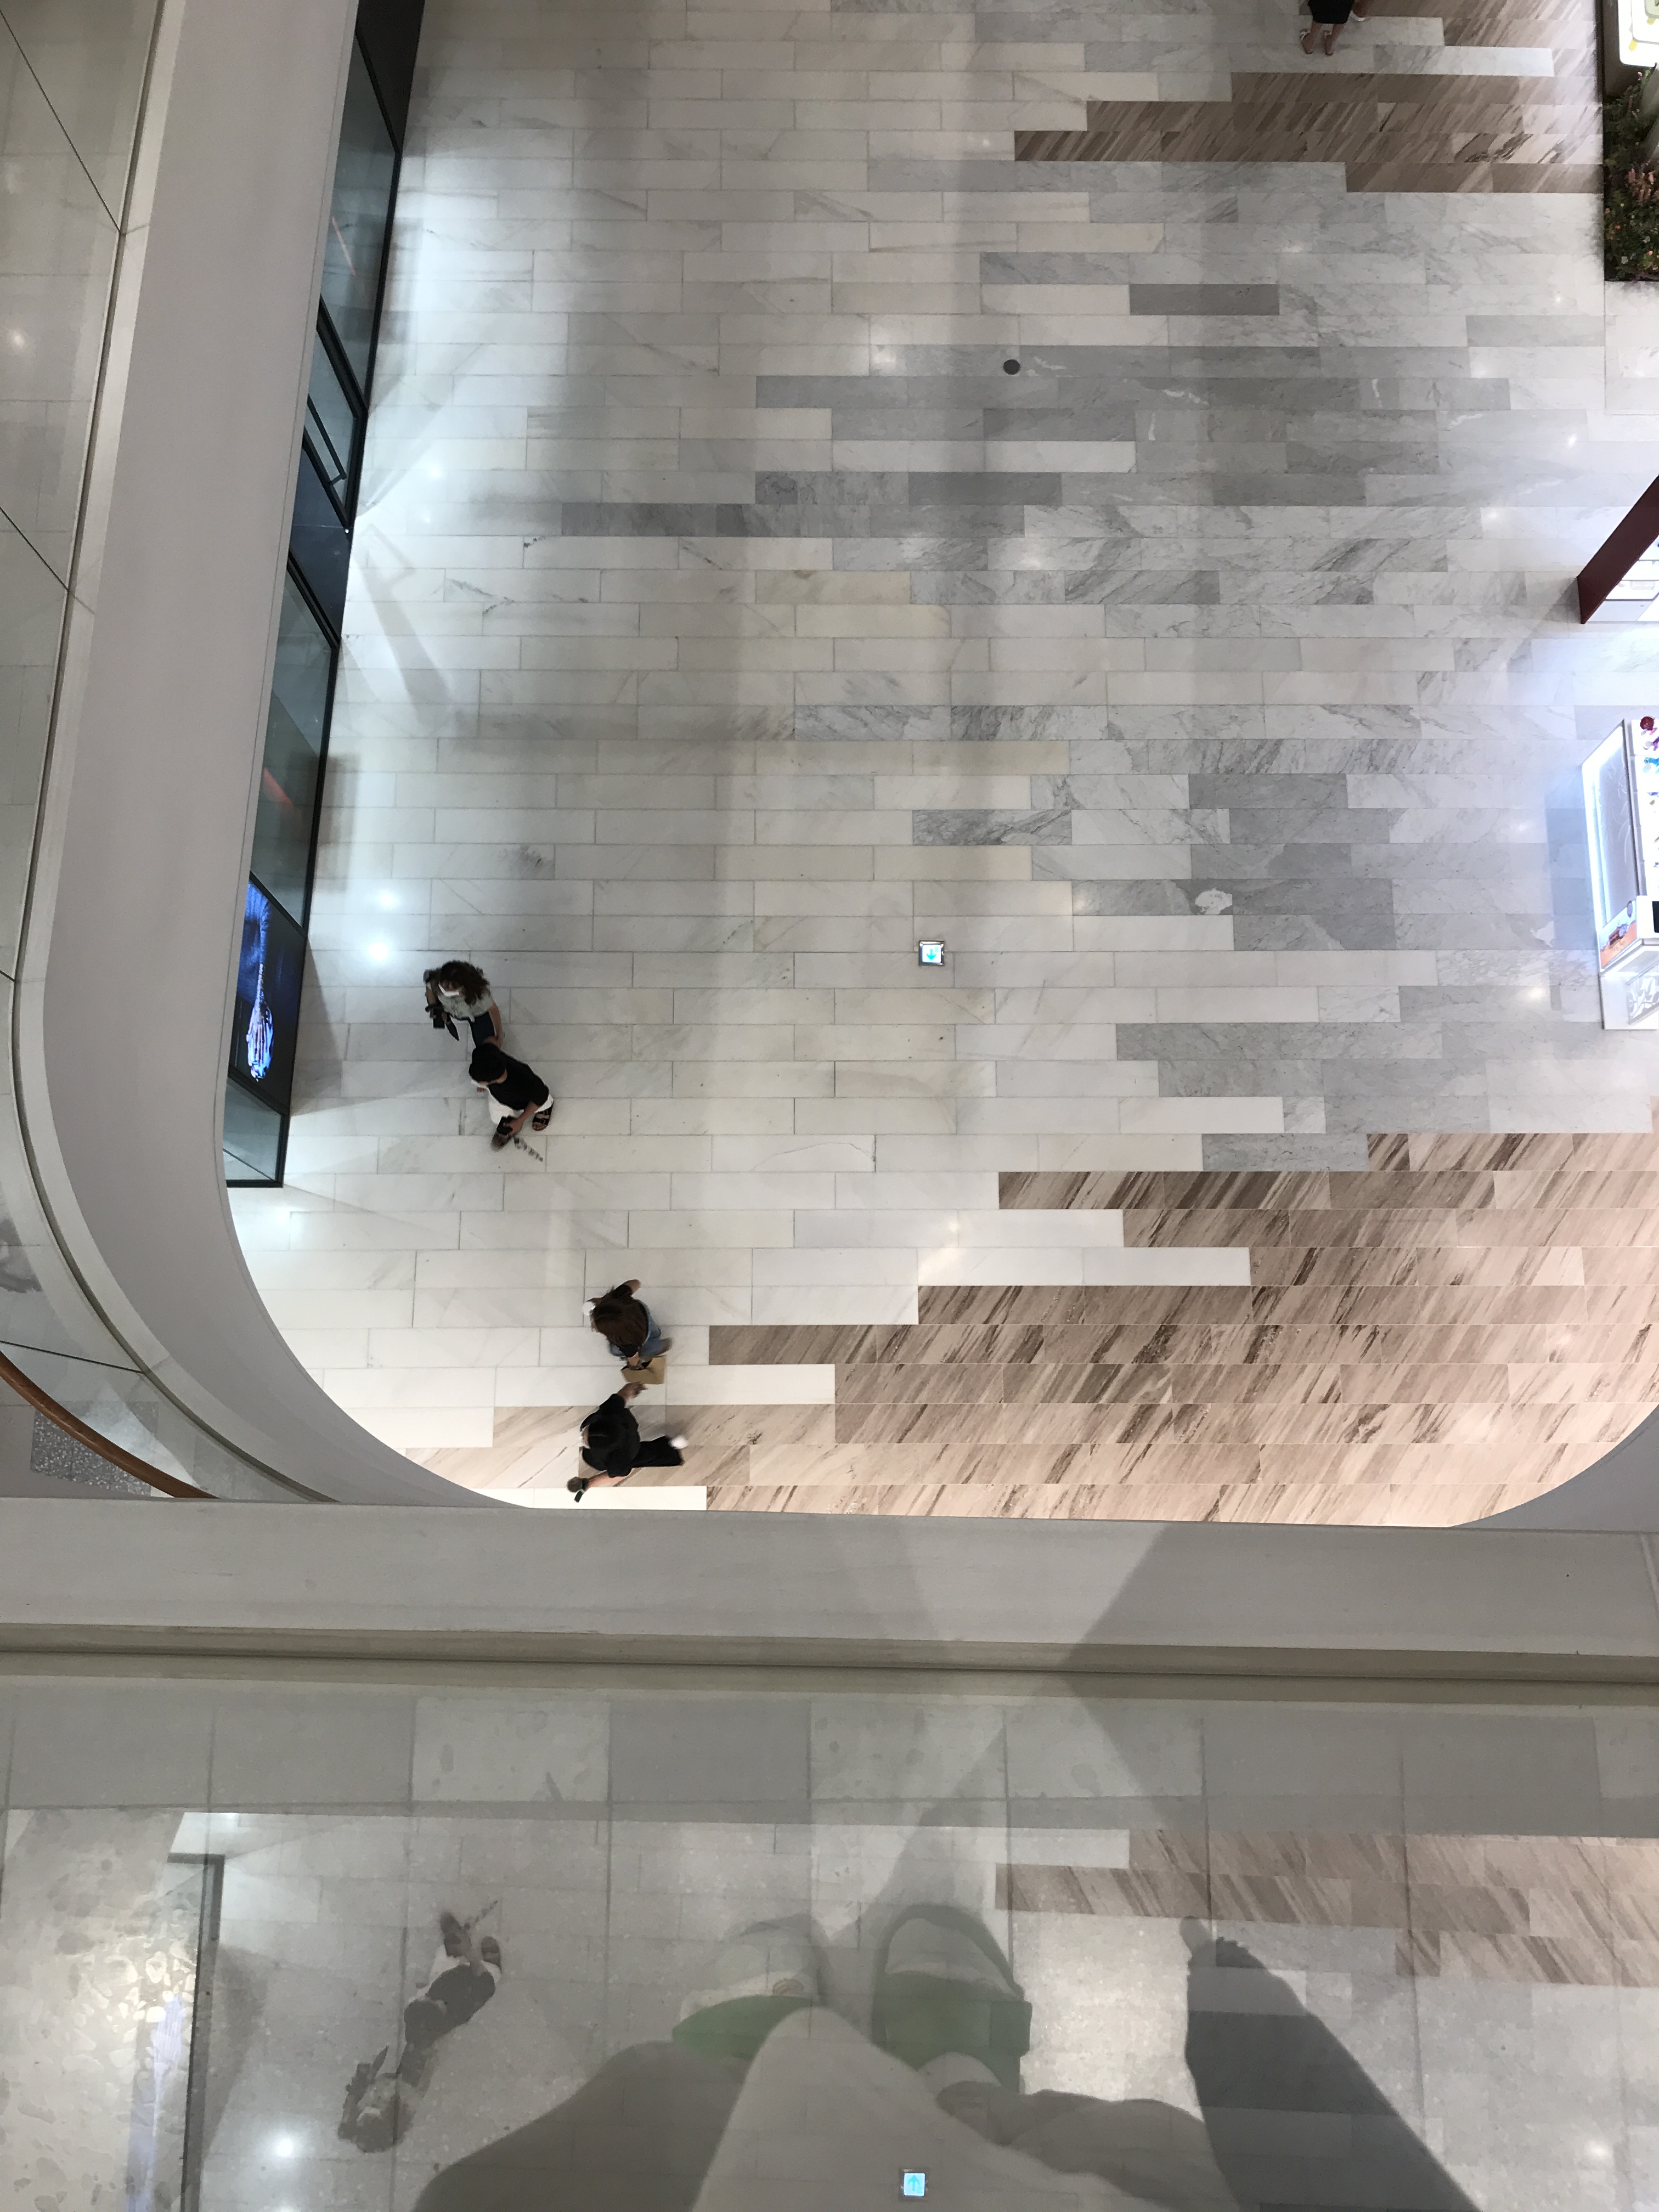person: (568, 1380, 689, 1497), (467, 1040, 555, 1153), (584, 1277, 674, 1369), (422, 960, 505, 1051)
